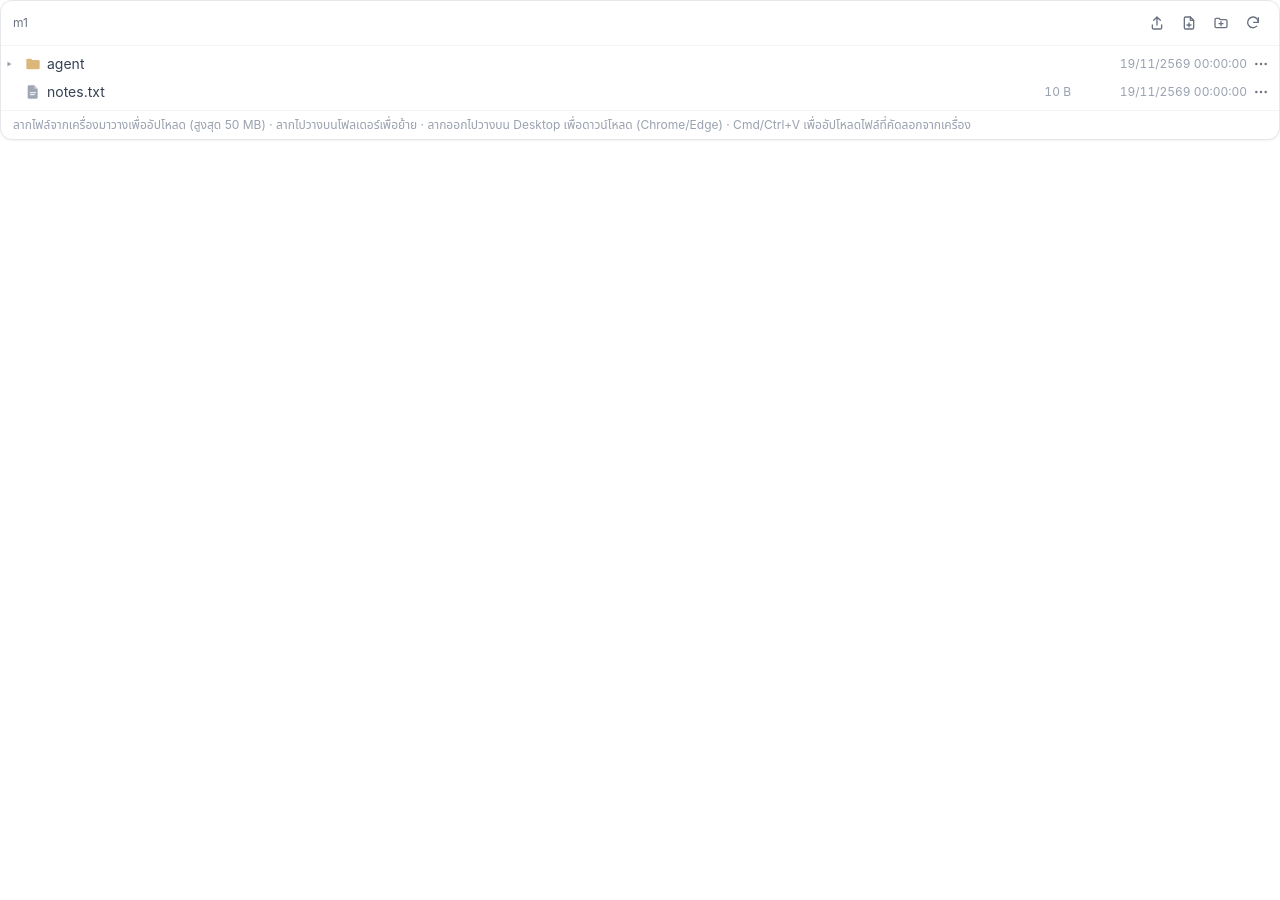
it: FilesTab row menu › Rename and Delete send the existing requests
The image size is (1280, 900).
Later steps or results of the test are not shown.
Expected: the button "notes.txt" is shown, [7,78,991,106]
Click the button named "More Actions: notes.txt". click: (1261, 92)
box: [1251,82,1271,102]
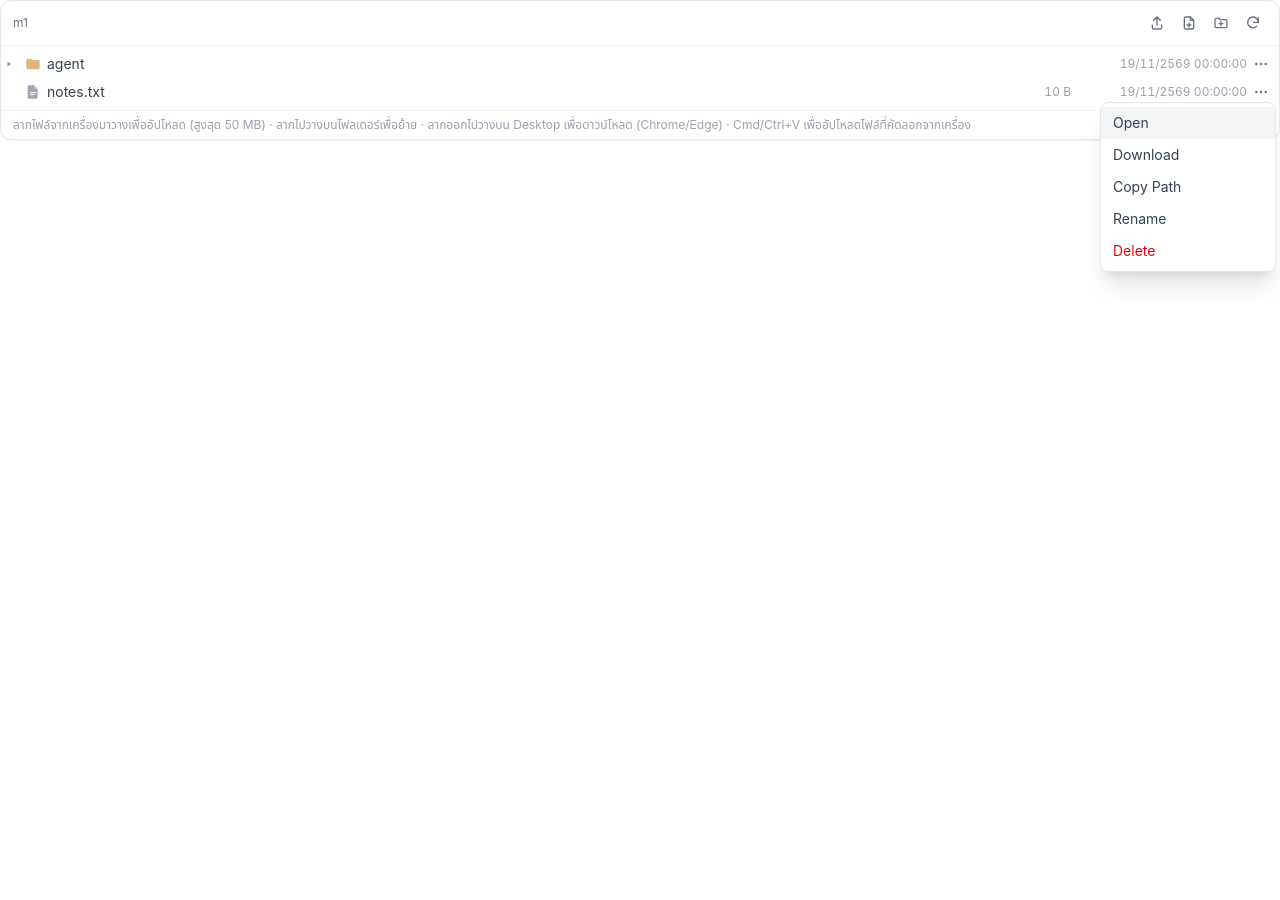
Click the menu item "Rename". click: (1188, 219)
box: [1101,203,1275,235]
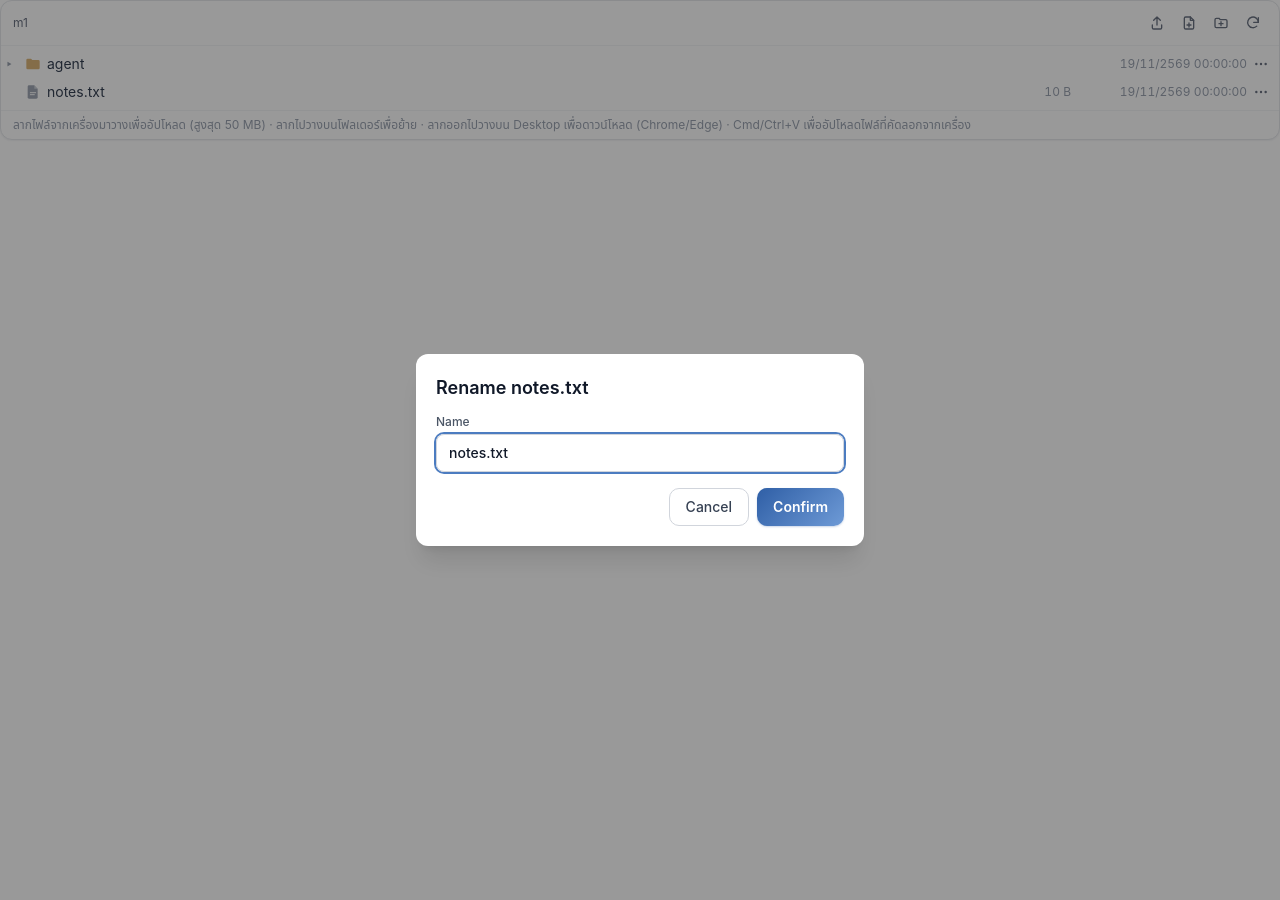
Replace the text in the field labelled "Name" with "a/b". click: (640, 453)
box: [436,434,844,472]
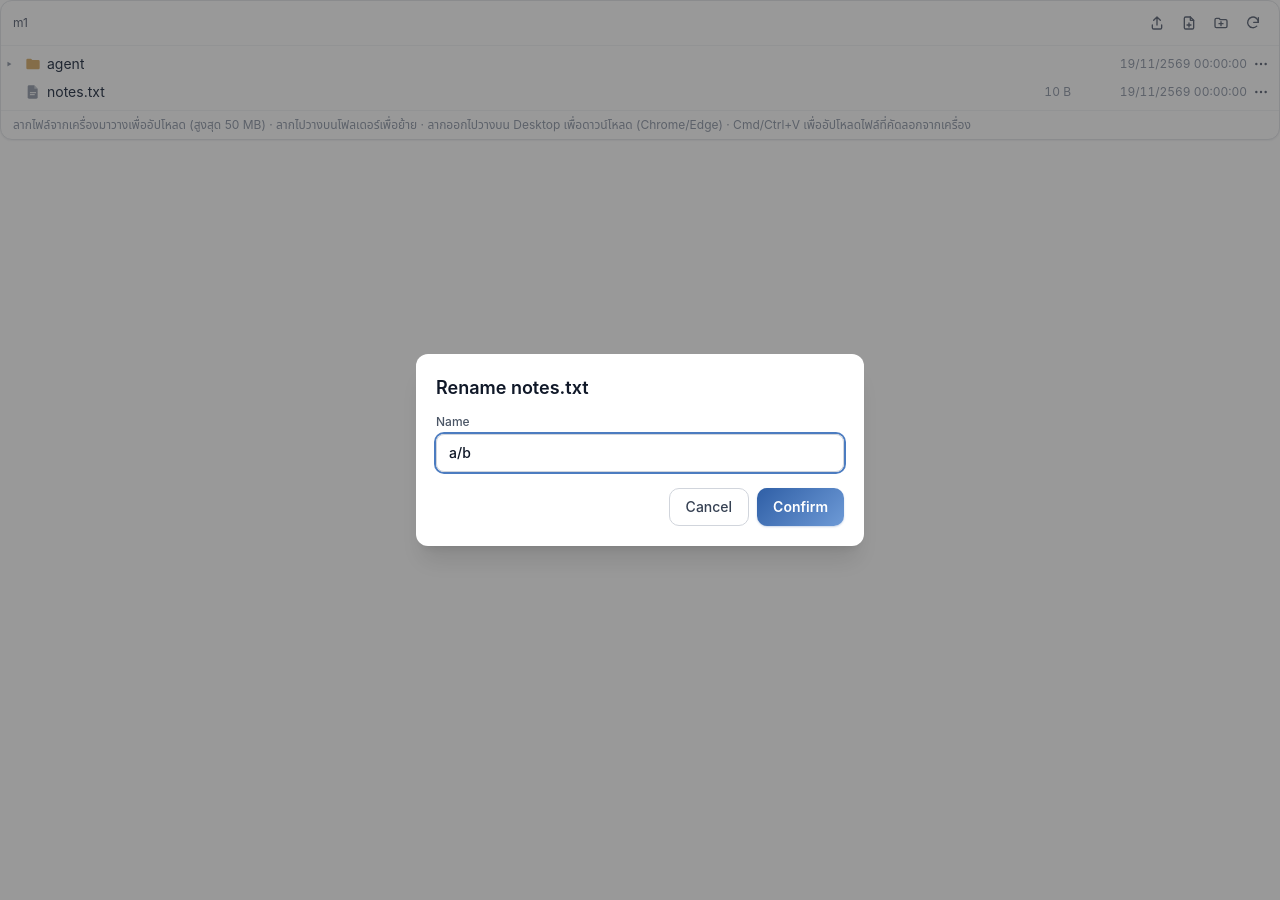
Click the button "Confirm". click: (801, 507)
box: [757,488,844,526]
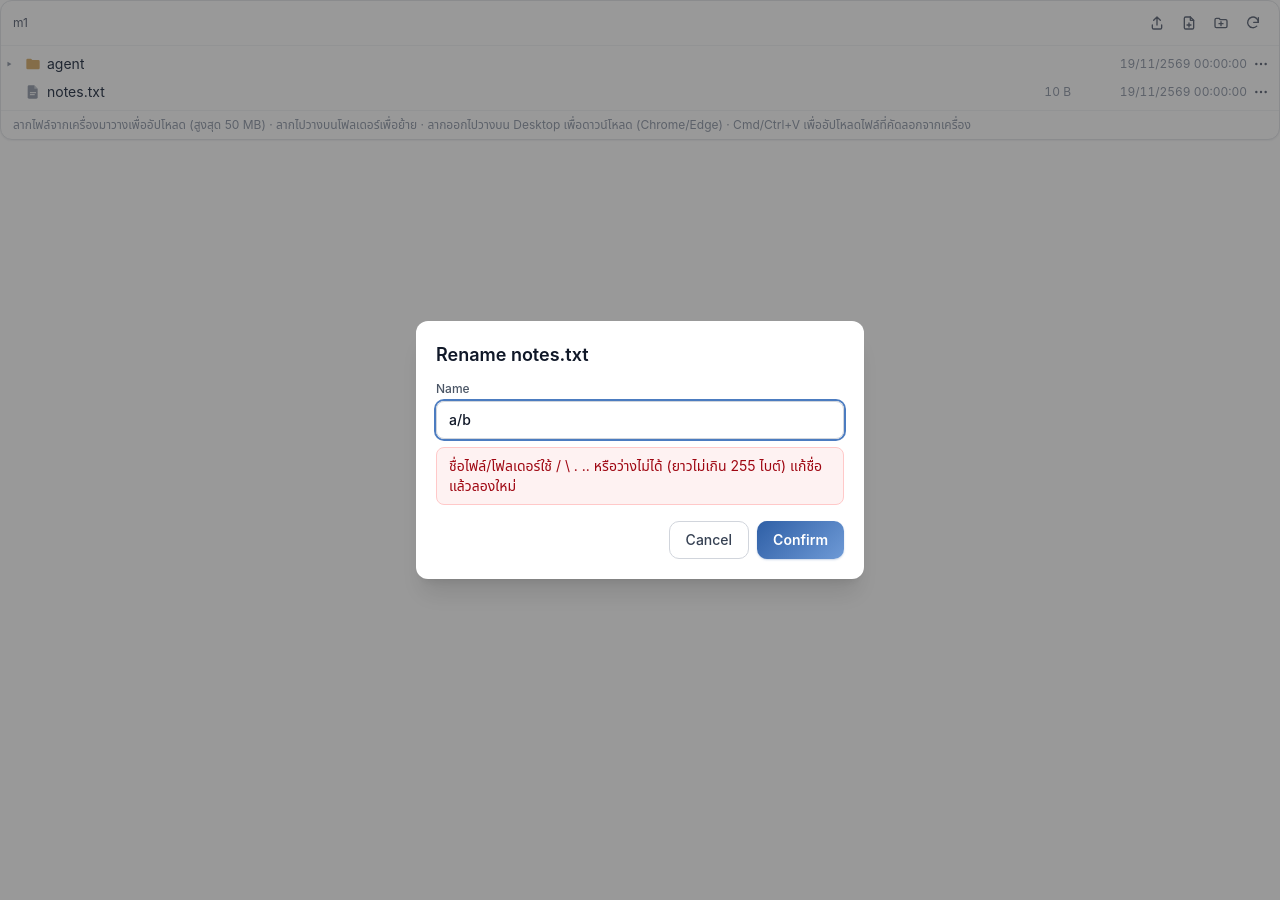
Now the text "ชื่อไฟล์/โฟลเดอร์ใช้" is shown, box [449,457,822,494]
Replace the text in the field labelled "Name" with "n2.txt". click: (640, 420)
box: [436,401,844,439]
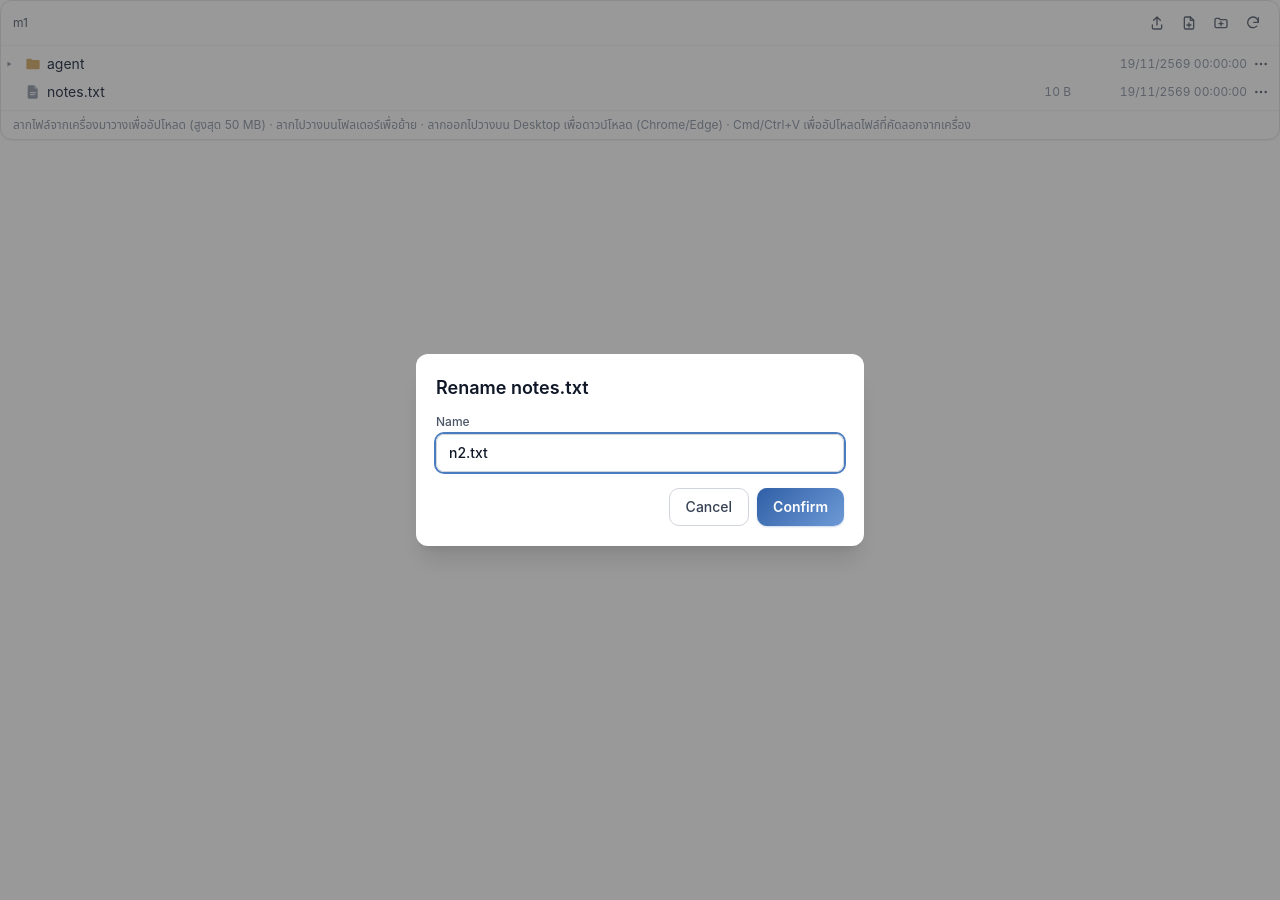
Click the button "Confirm". click: (801, 507)
box: [757,488,844,526]
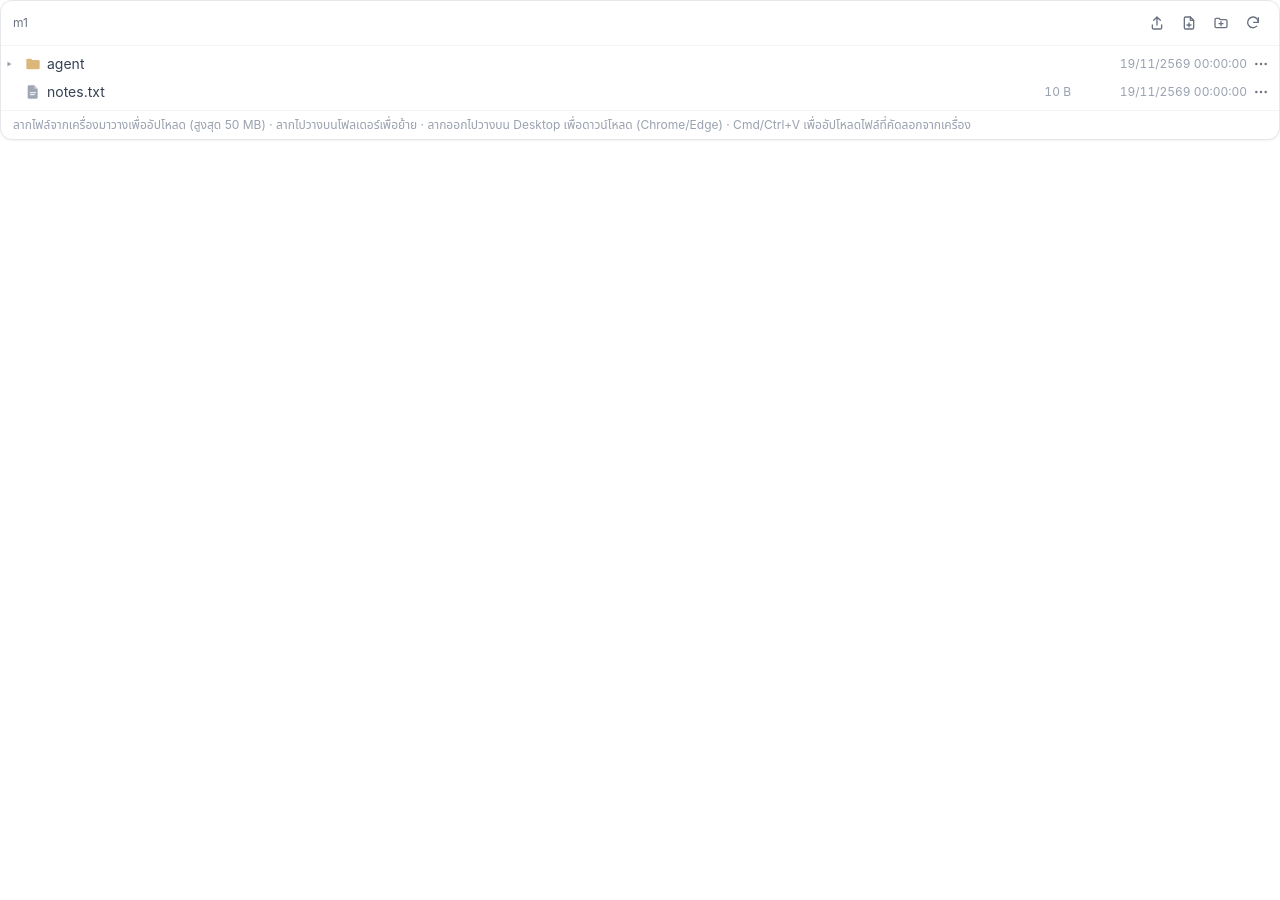
Now the dialog is gone
